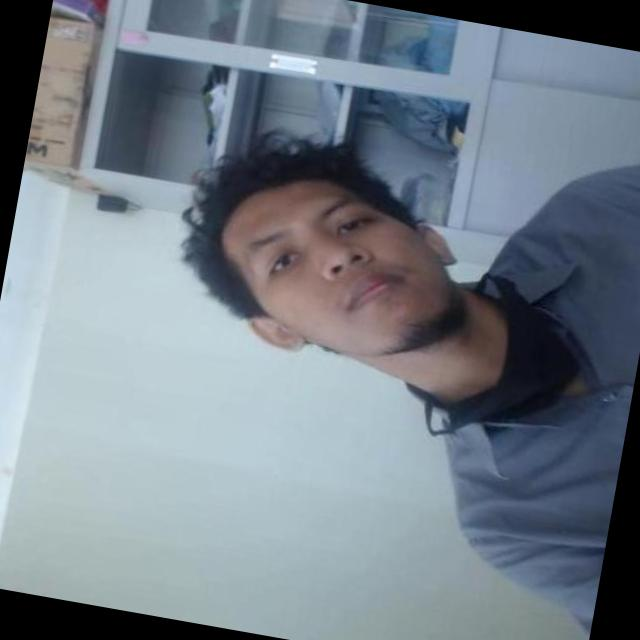bareface: (196, 140, 471, 375)
